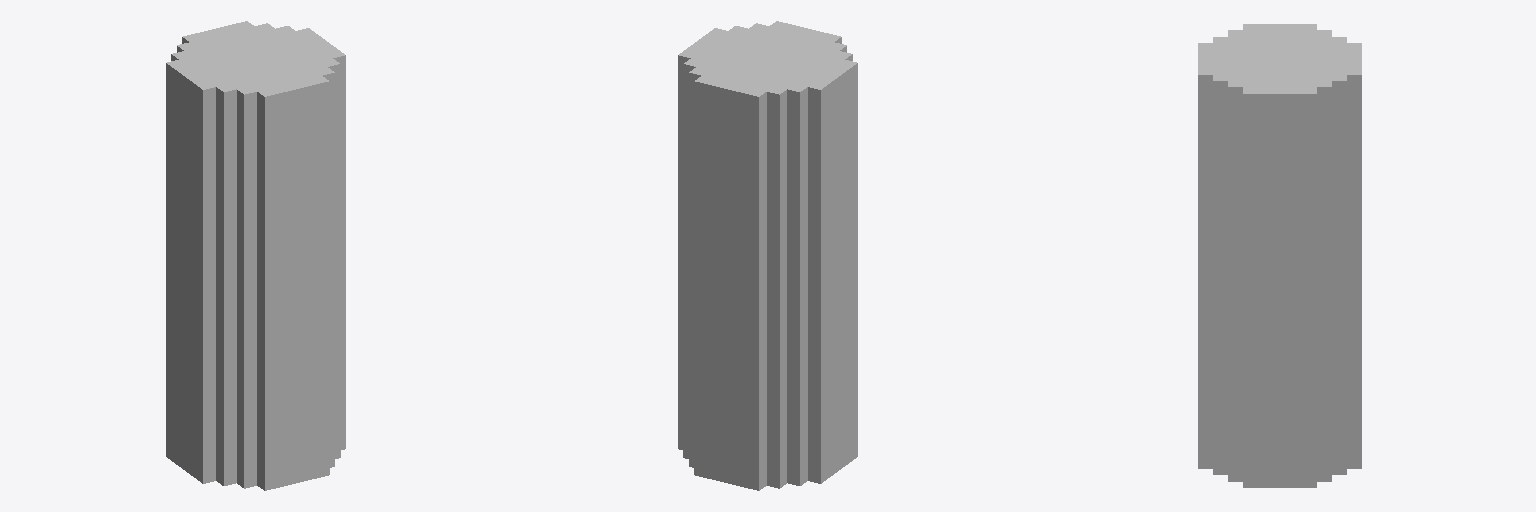
The model's file is tree.obj.
3 renders of one model, left to right at view 1: azimuth 30°, elevation 25°; view 2: azimuth 150°, elevation 25°; view 3: azimuth 270°, elevation 25°, orthographic.
Visible parts, largest first — view 1: object 1; view 2: object 1; view 3: object 1.
Part boxes in pixels (left/top/right/bottom): object 1: left=166, top=21, right=345, bottom=490; object 1: left=678, top=21, right=857, bottom=490; object 1: left=1198, top=24, right=1361, bottom=487.
Bounding box in the file's own units: 2.2 × 5.8 × 2.2.